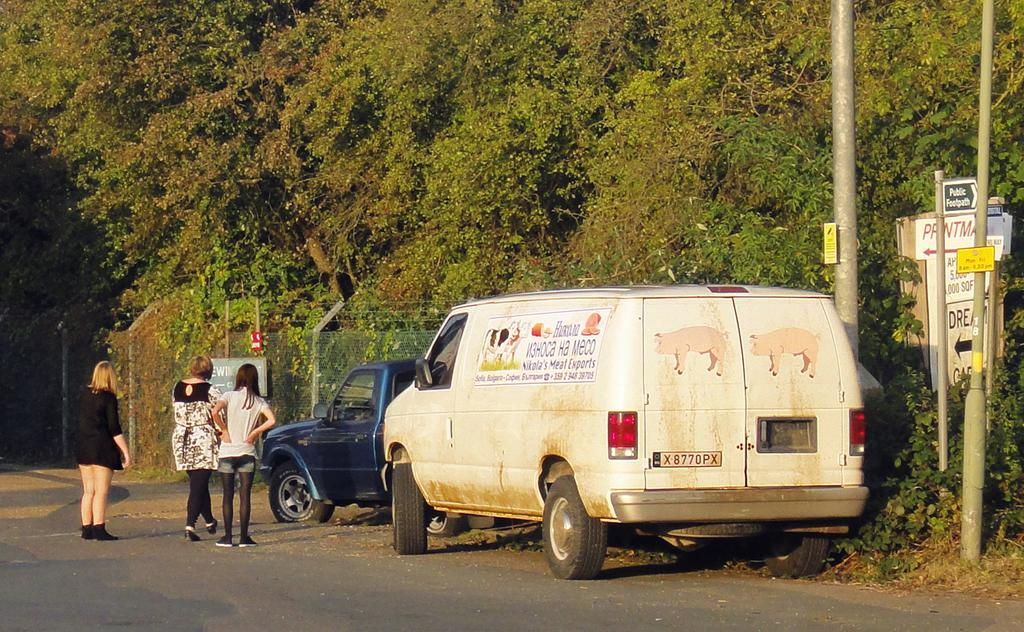vehicle: (382, 283, 868, 581), (260, 359, 499, 536)
